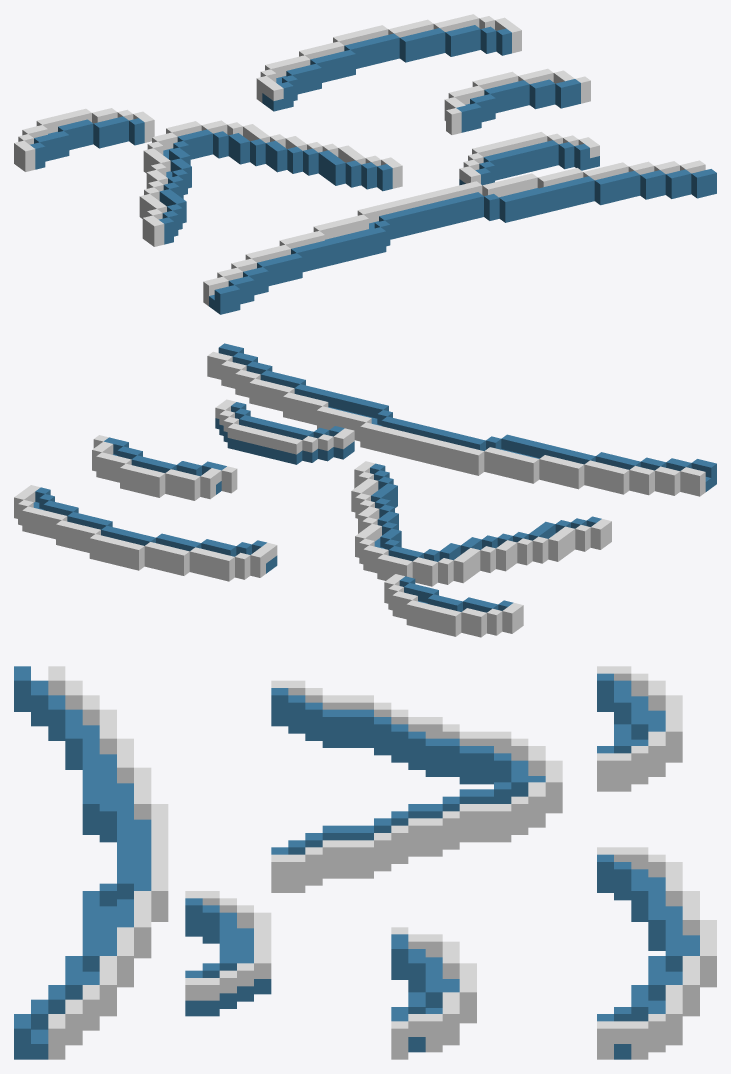
The model's file is волны.obj.
3 views of the same model, one above another, from view 1: azimuth 30°, elevation 25°; view 2: azimuth 150°, elevation 25°; view 3: azimuth 270°, elevation 25° (orthographic). The views are drawn at different scales.
Size of the model in its own units: 5 by 0.2 by 4.1.
Materials: 1 (1 with a texture image).
